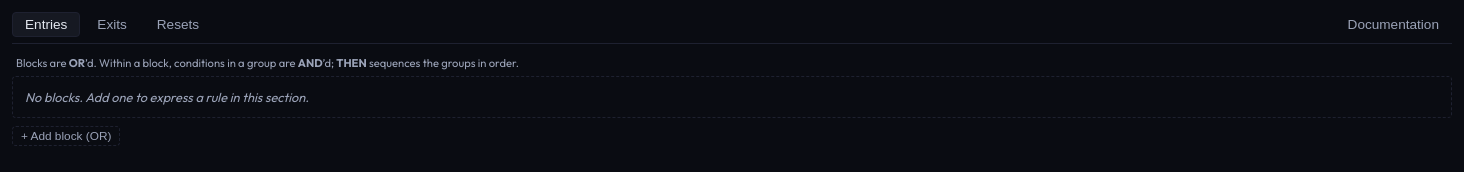
Test: post-fix interface: no section prop — doc tab works › switching back from doc to Entries tab shows blocks panel
This screenshot has width=1464, height=172.
Click the tab with test id "section-tab-doc".
click(1393, 24)  # box [1335,12,1452,37]
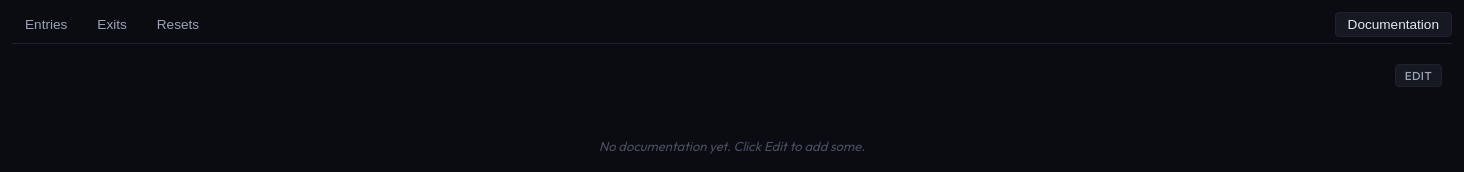
Click the tab with test id "section-tab-entries".
click(46, 24)  # box [12,12,80,37]
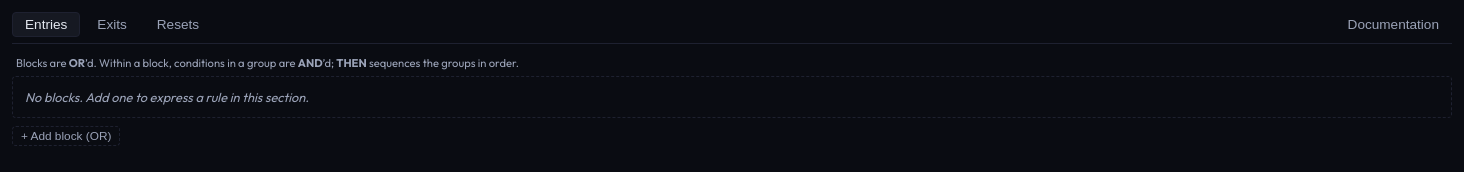
Now the button with test id "add-block-btn" is shown, box [12,126,120,146]
